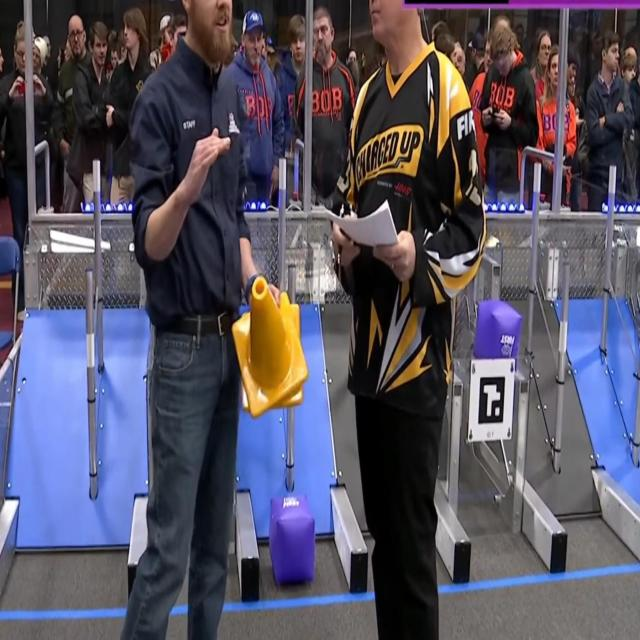frc_cone: (232, 276, 306, 416)
frc_cube: (269, 494, 316, 585), (473, 298, 520, 366)
